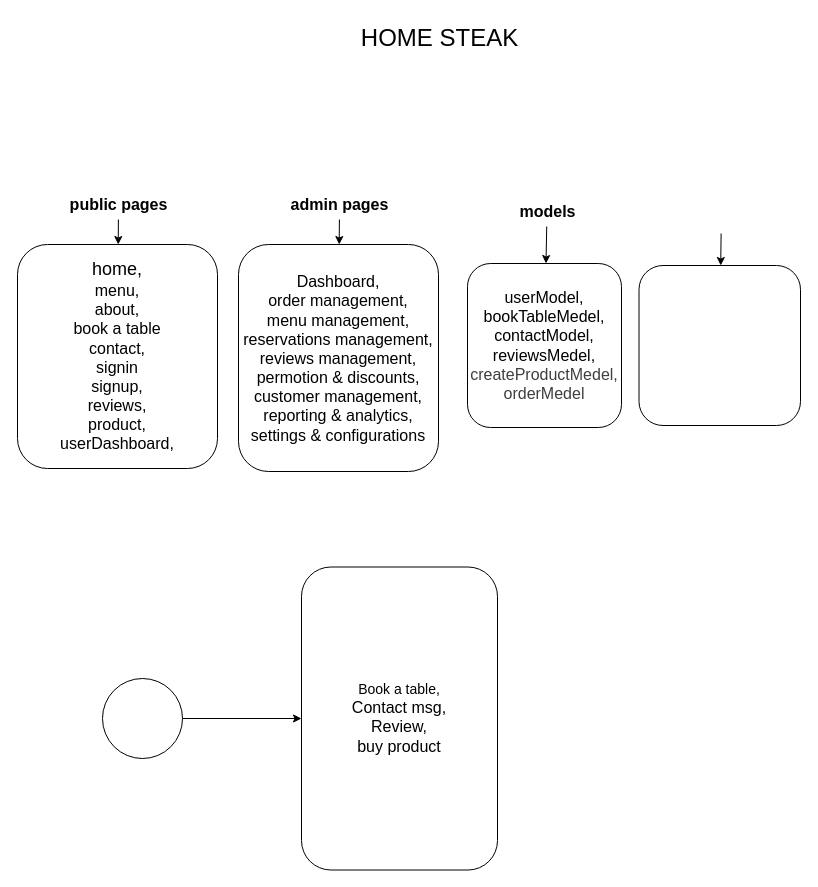
This 818x887 diagram has some shape labels left out. Here are the shapes that lost their labels. From the top down, the centre of each, then its label:
[719,345]: userSchema, bookTableSchema, contactSchema, reviewSchema
[142,718]: User
